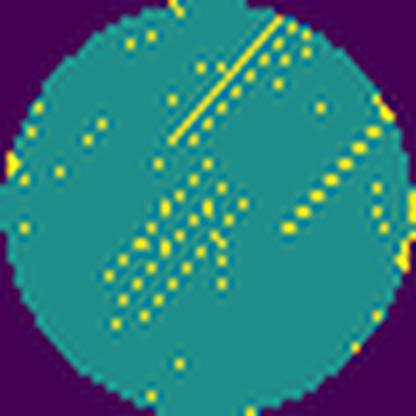Scratch: (96, 153, 256, 331), (162, 16, 280, 150), (272, 115, 385, 246)
